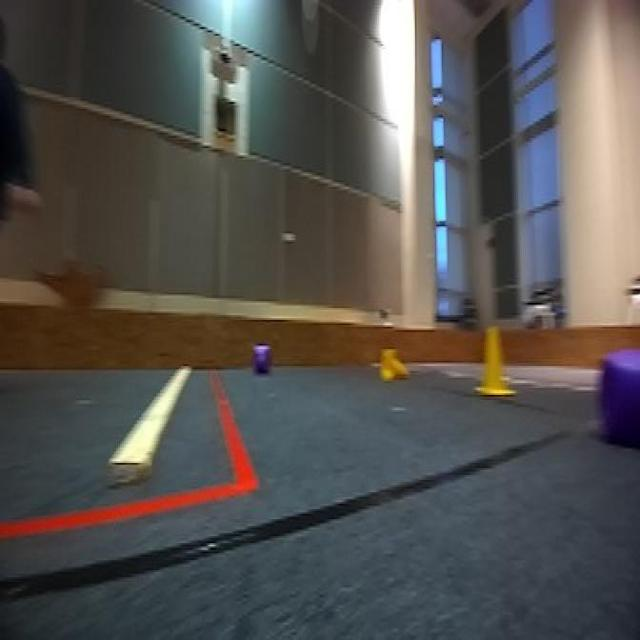frc_cone: (474, 324, 512, 404), (376, 346, 409, 381)
frc_cube: (591, 327, 640, 453), (250, 344, 272, 379)
